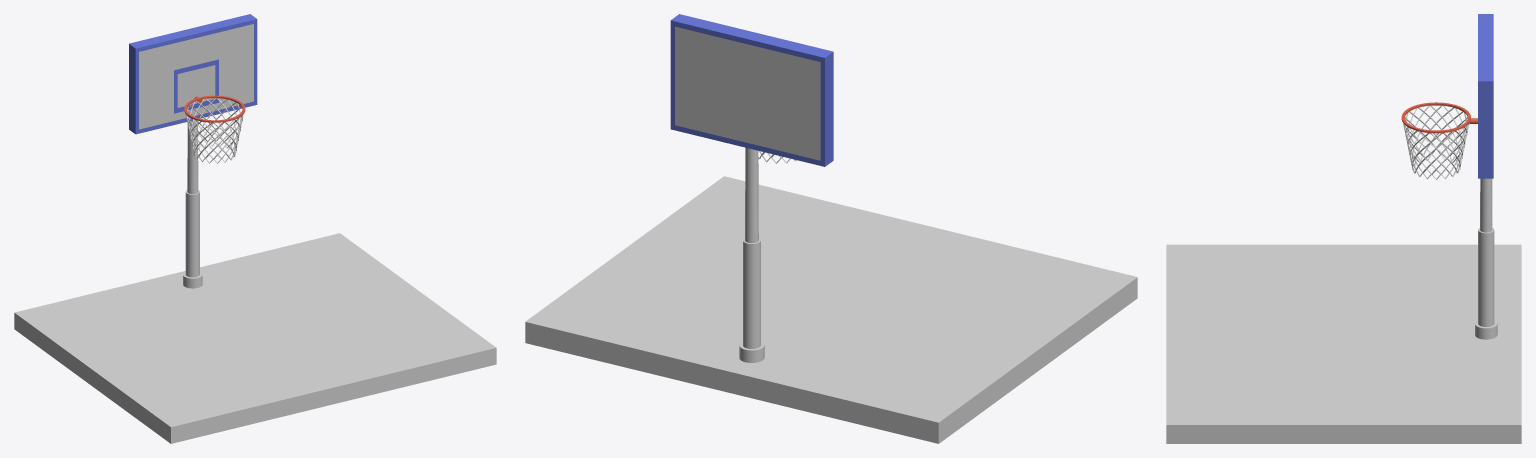
The model's file is Basketball_Hoop.fbx.
3 views of the same model, side by side, from view 1: azimuth 30°, elevation 25°; view 2: azimuth 150°, elevation 25°; view 3: azimuth 270°, elevation 25° (orthographic). The views are drawn at different scales.
Visible parts, largest first — view 1: Base, Basketball_Hoop_A, Basketball_Hoop_B; view 2: Base, Basketball_Hoop_A; view 3: Base, Basketball_Hoop_A, Basketball_Hoop_B.
Part boxes in pixels (x1=…): Base: x1=14, y1=233, x2=496, y2=443; Basketball_Hoop_A: x1=129, y1=14, x2=257, y2=288; Basketball_Hoop_B: x1=184, y1=95, x2=245, y2=163; Base: x1=525, y1=176, x2=1137, y2=443; Basketball_Hoop_A: x1=670, y1=14, x2=833, y2=362; Base: x1=1166, y1=244, x2=1521, y2=443; Basketball_Hoop_A: x1=1475, y1=14, x2=1497, y2=339; Basketball_Hoop_B: x1=1401, y1=102, x2=1477, y2=179.
Size of the model in its own units: 600 by 475 by 500.
